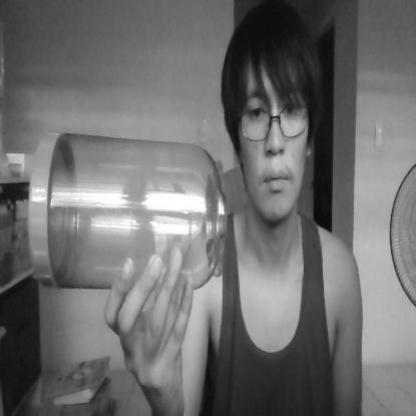Plastic Bottle: (32, 115, 234, 298)
